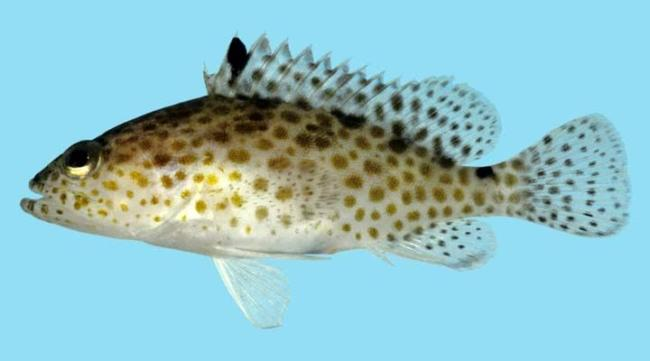fish: (19, 29, 632, 330)
